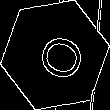O_W: (25, 26, 85, 84)
